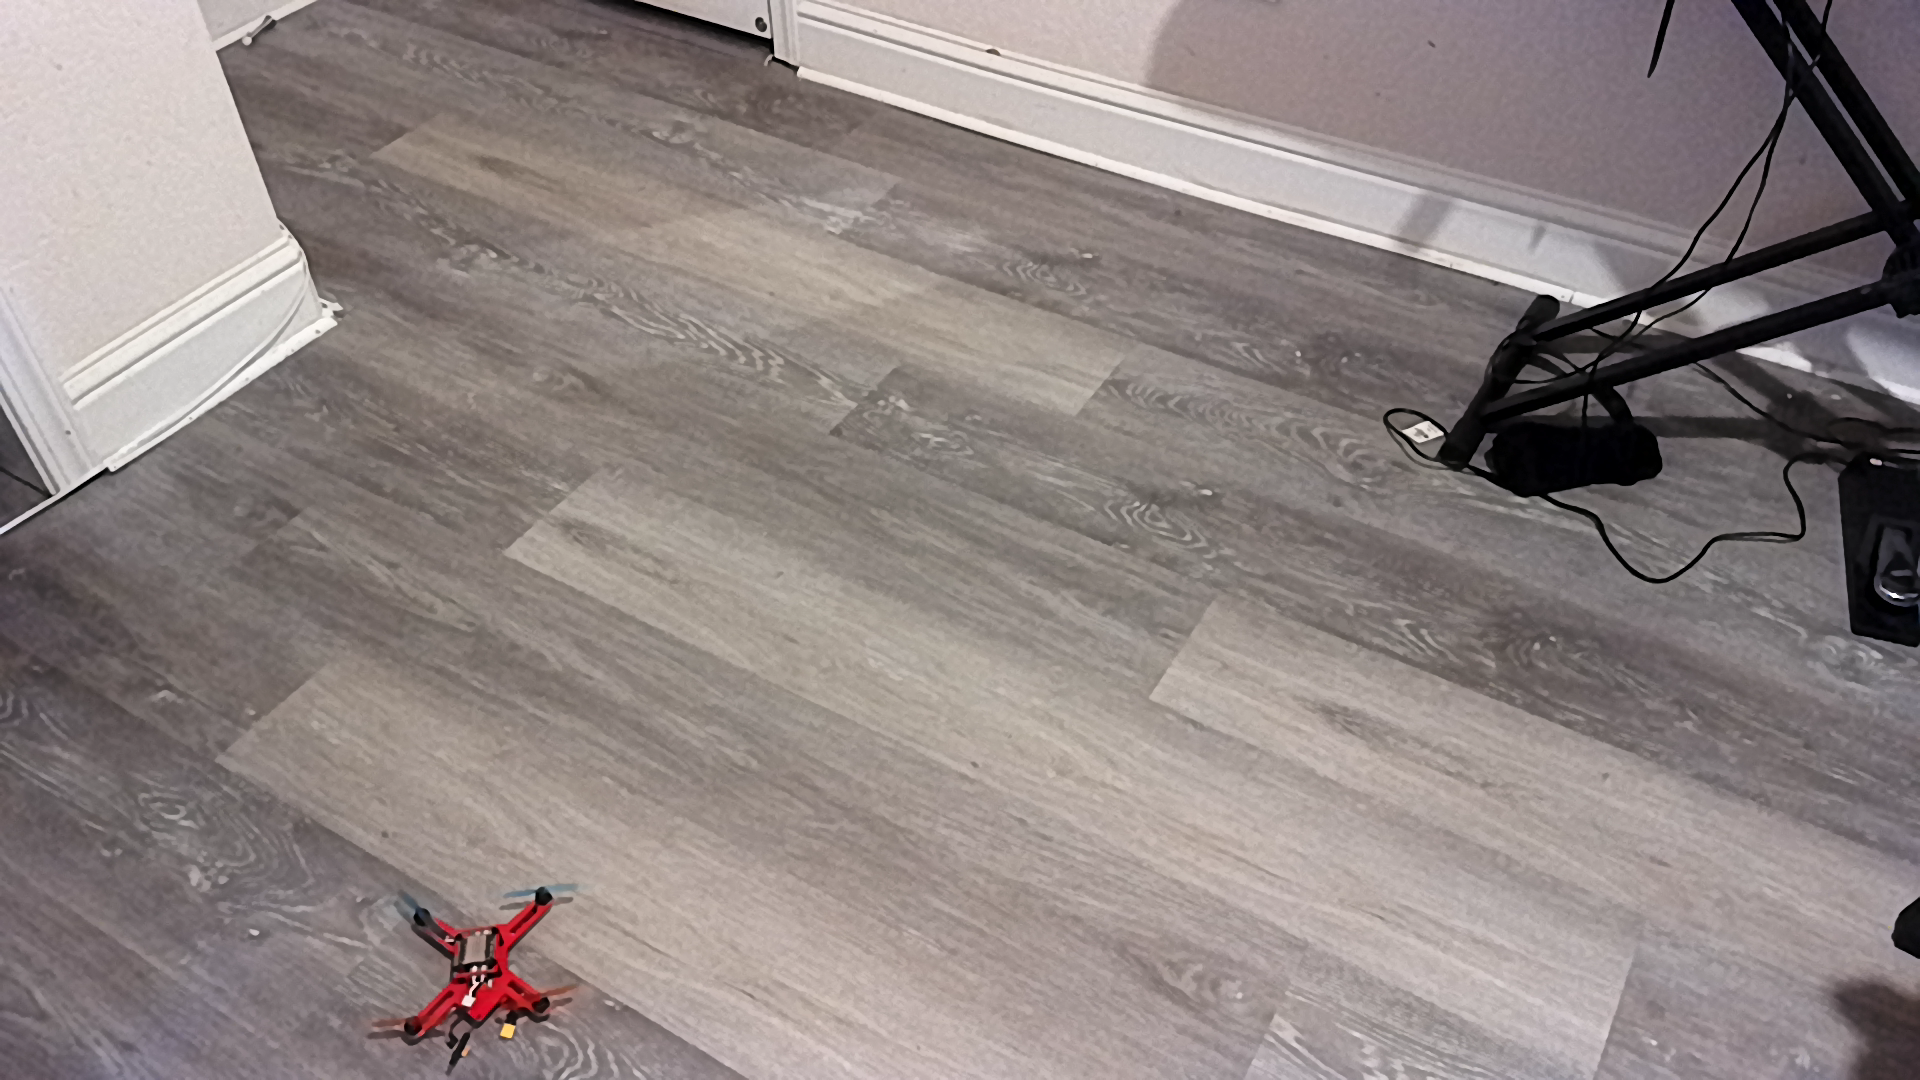drone: (356, 884, 611, 1064)
